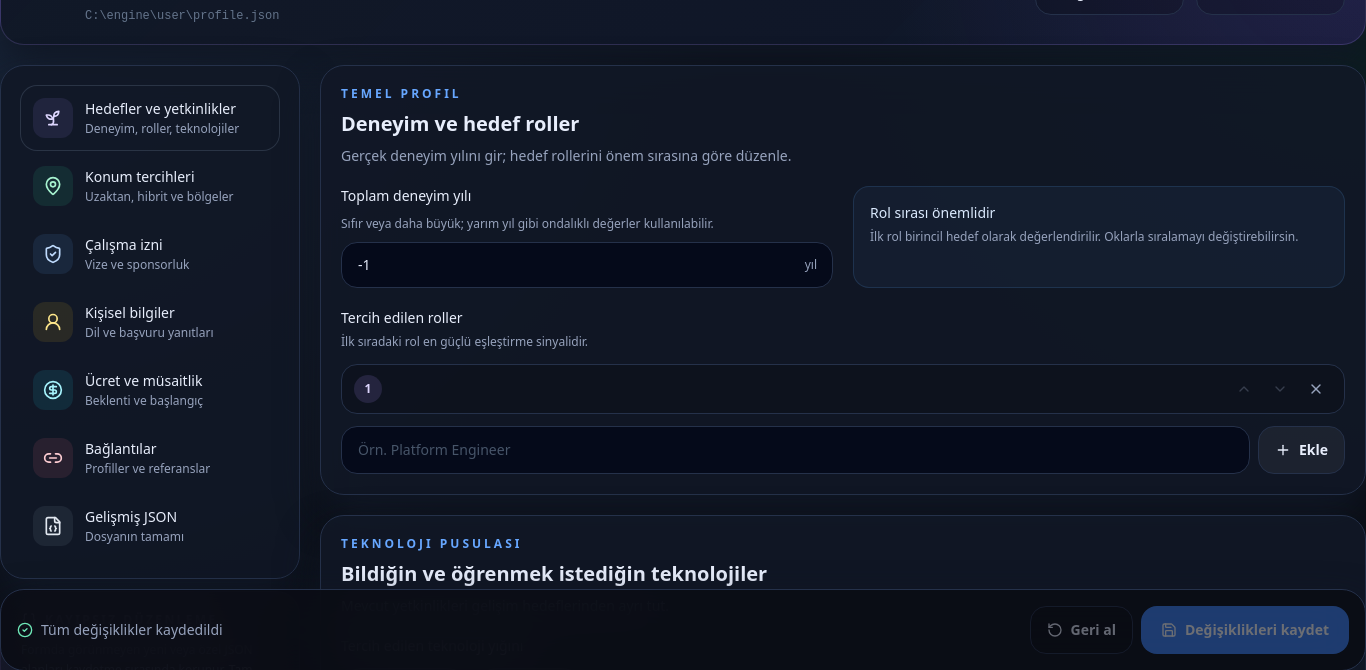
Test: ProfileEditor › presents common schema failures as concise Turkish field guidance
Replace the text in the number field named "Toplam deneyim yılı" with "-2" at {"x": 587, "y": 265}, box [341, 242, 833, 288]
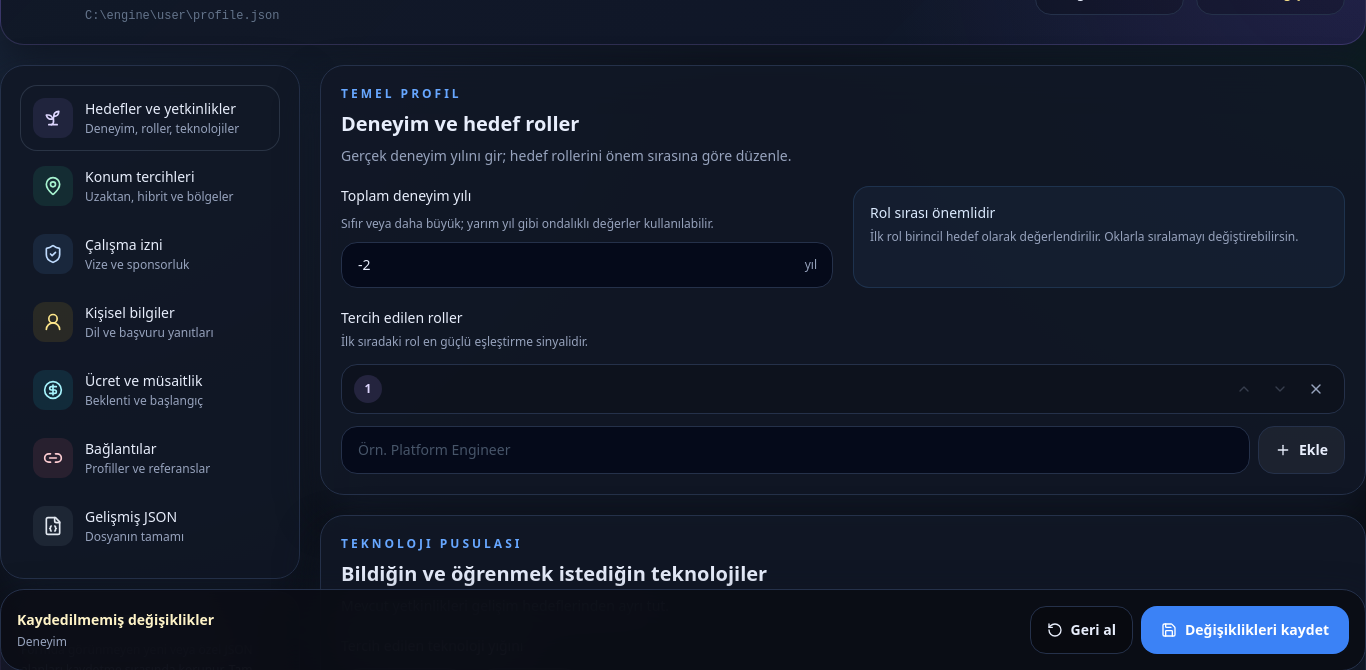
Click the button "Değişiklikleri kaydet".
click(1245, 630)  # box [1141, 606, 1349, 654]
(page scrolled)
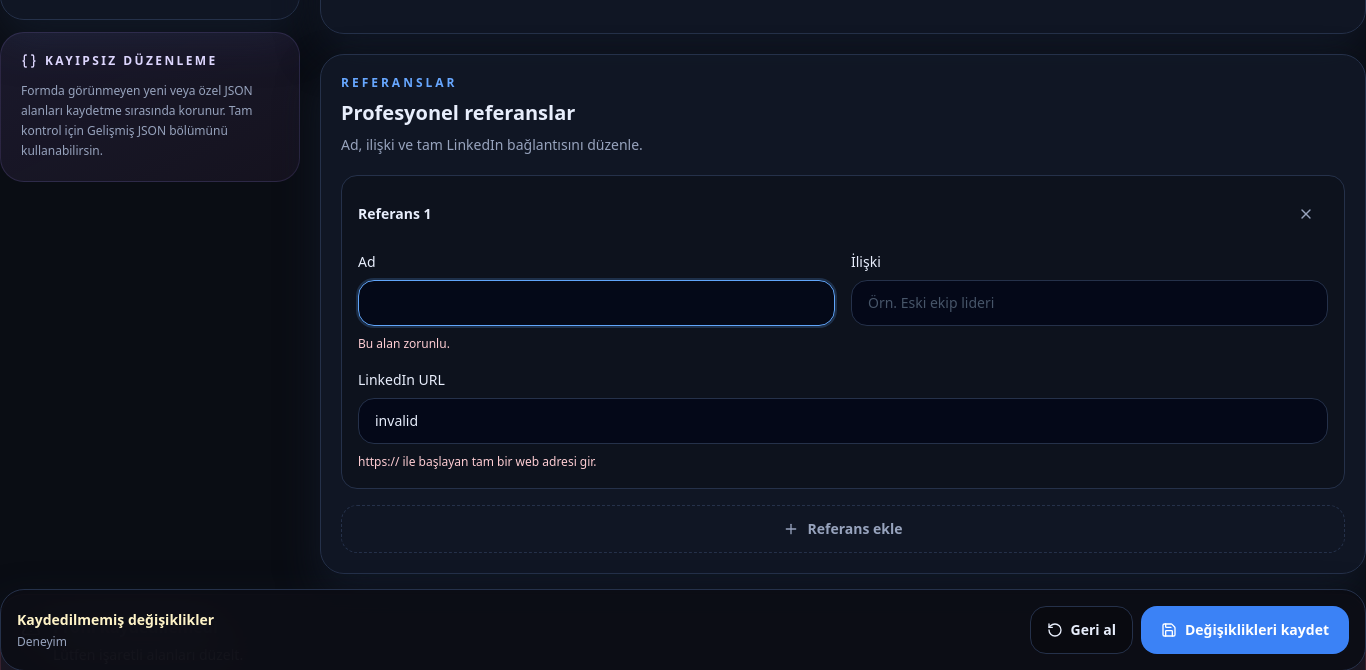
Result: the text "Bu alan zorunlu." is shown at [358, 335, 450, 352]
